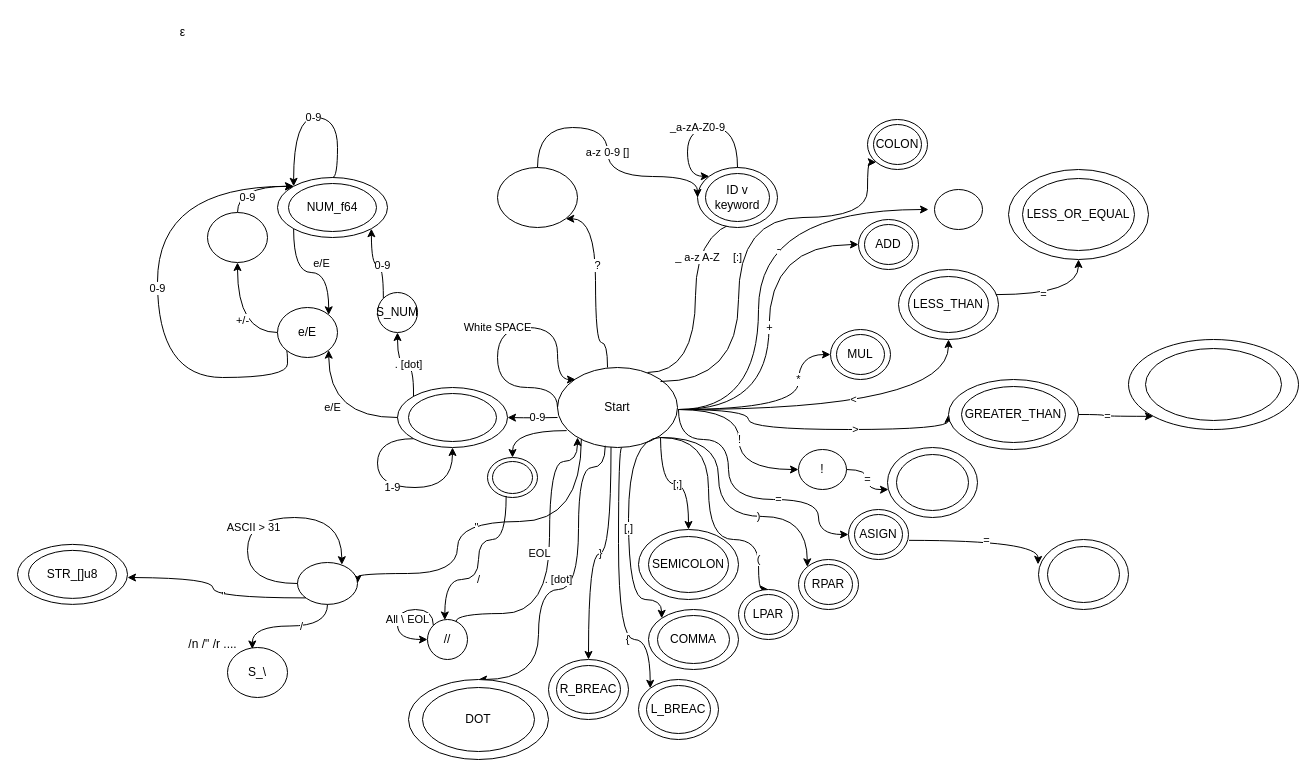
Some shapes in this 1316 by 777 pixel diagram are drawn without their labels. The shapes that lost their labels are listed below. From the top down, each one's box as (x1, y1, x2, y2) in pixels, then its label:
(496, 166, 578, 228): ?_STATE
(934, 188, 982, 230): SUB
(206, 212, 268, 262): e/E +-
(1144, 348, 1282, 420): GREATER_OR_EQUAL
(408, 392, 496, 442): NUM_I32
(492, 460, 532, 494): DIV
(896, 454, 968, 510): NOT_EQ
(296, 562, 358, 604): S_Start_"
(1046, 546, 1120, 602): EQUALS
